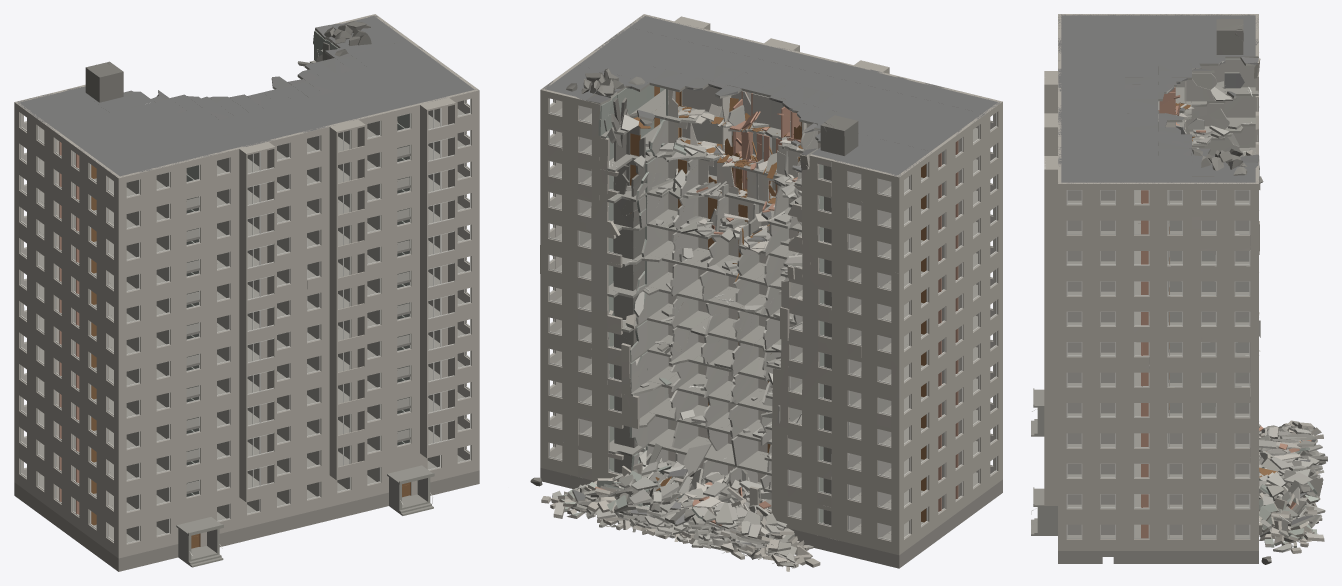
Rendered from b4_ruin_lod0.glb.
3 views of the same model, side by side, from view 1: azimuth 30°, elevation 25°; view 2: azimuth 150°, elevation 25°; view 3: azimuth 270°, elevation 25° (orthographic). The views are drawn at different scales.
Parts seen in each view (by area): view 1: b4_lod0__facade_panel, b4_lod0__roof, b4_lod0__wall_room, b4_lod0__window_frame, b4_lod0__slab_top, b4_lod0__monolith, b4_lod0__plinth, b4_lod0__concrete, b4_lod0__stairwell_wall; view 2: b4_lod0__facade_panel, b4_lod0__wall_room, b4_lod0__roof, b4_lod0__slab_top, b4_lod0__concrete, b4_lod0__slab_edge, b4_lod0__window_frame, b4_lod0__stairwell_wall, b4_lod0__slab_under, b4_lod0__plinth, b4_lod0__door_wood; view 3: b4_lod0__facade_panel, b4_lod0__roof, b4_lod0__wall_room, b4_lod0__slab_top, b4_lod0__window_frame, b4_lod0__concrete, b4_lod0__plinth, b4_lod0__slab_edge, b4_lod0__slab_under, b4_lod0__monolith, b4_lod0__stairwell_wall.
Boxes of the visible parts, x1,y1,x2,y2 form: b4_lod0__facade_panel: (14,14,479,558); b4_lod0__roof: (17,15,478,176); b4_lod0__wall_room: (22,49,469,540); b4_lod0__window_frame: (20,98,470,558); b4_lod0__slab_top: (39,60,464,542); b4_lod0__monolith: (176,146,434,567); b4_lod0__plinth: (14,470,479,571); b4_lod0__concrete: (85,21,371,102); b4_lod0__stairwell_wall: (186,30,409,496); b4_lod0__facade_panel: (540,14,1002,571); b4_lod0__wall_room: (549,86,995,569); b4_lod0__roof: (541,15,999,544); b4_lod0__slab_top: (555,89,977,567); b4_lod0__concrete: (530,68,858,525); b4_lod0__slab_edge: (560,73,820,567); b4_lod0__window_frame: (548,17,996,568); b4_lod0__stairwell_wall: (559,85,824,522); b4_lod0__slab_under: (552,83,820,565); b4_lod0__plinth: (540,468,1002,568); b4_lod0__door_wood: (630,86,926,520); b4_lod0__facade_panel: (1044,14,1324,553); b4_lod0__roof: (1058,14,1317,551); b4_lod0__wall_room: (1067,59,1323,538); b4_lod0__slab_top: (1067,87,1324,538); b4_lod0__window_frame: (1031,87,1308,542); b4_lod0__concrete: (1192,19,1327,564); b4_lod0__plinth: (1058,551,1258,563); b4_lod0__slab_edge: (1125,56,1325,552); b4_lod0__slab_under: (1165,61,1324,552); b4_lod0__monolith: (1031,388,1057,535); b4_lod0__stairwell_wall: (1225,58,1318,547).
Size of the model in its own units: 37.74 by 39.95 by 26.56.
